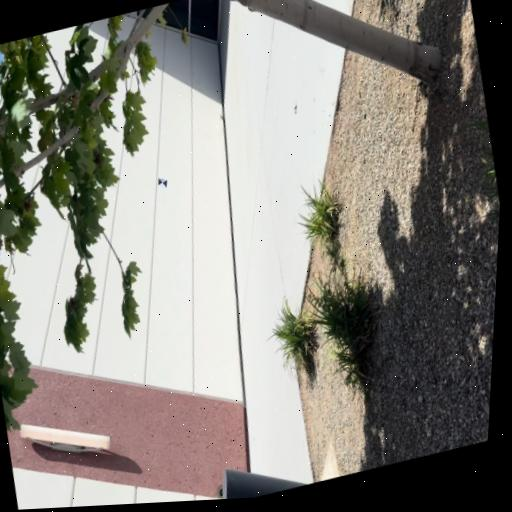target4: (159, 177, 167, 188)
